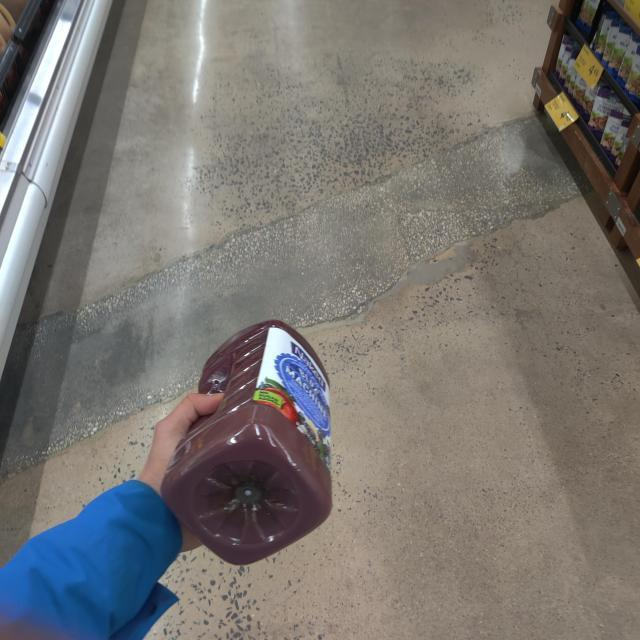Juice: (154, 314, 358, 566)
